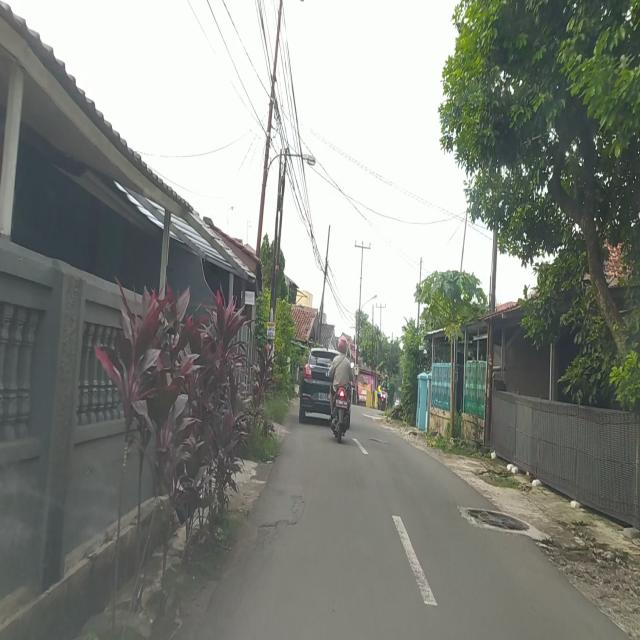Drain Hole: (226, 492, 304, 607)
